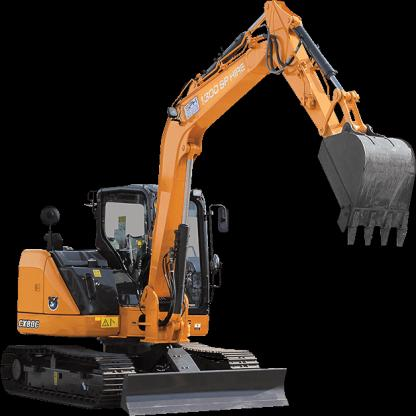excavator: (0, 0, 412, 410)
